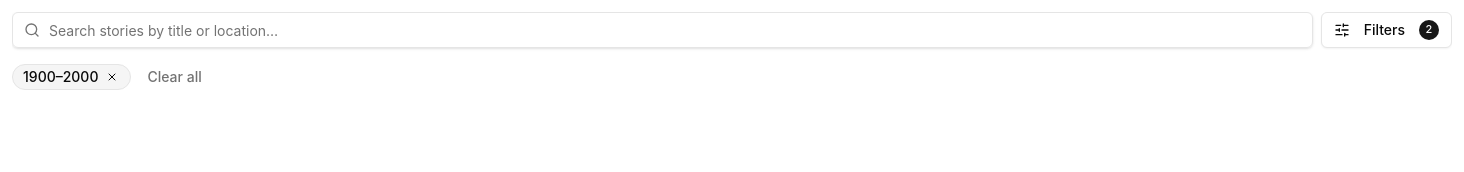
SearchFilter › removing the year range chip removes it and clears search input value updates
Expected: the text "1900–2000" is shown, [23,68,98,85]
Click the button named "Remove filter: 1900–2000" at (112, 77), box [104,69,120,85]
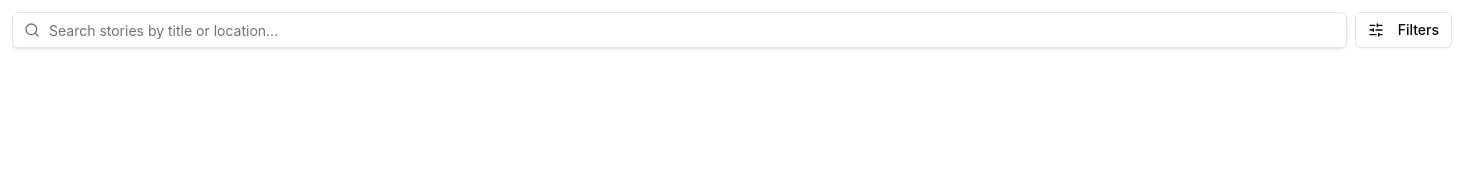
Expected: the text "1900–2000" is gone
